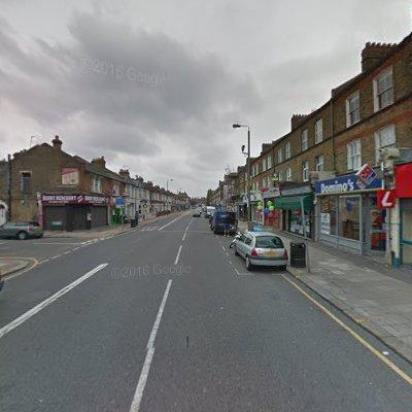moving-car: (192, 208, 202, 220)
stationary-car-onstreet: (232, 232, 290, 272), (1, 218, 46, 242)
stationary-light-truck-onstreet: (209, 209, 239, 235)
stationary-motorcycle-onstreet: (228, 230, 244, 248)
